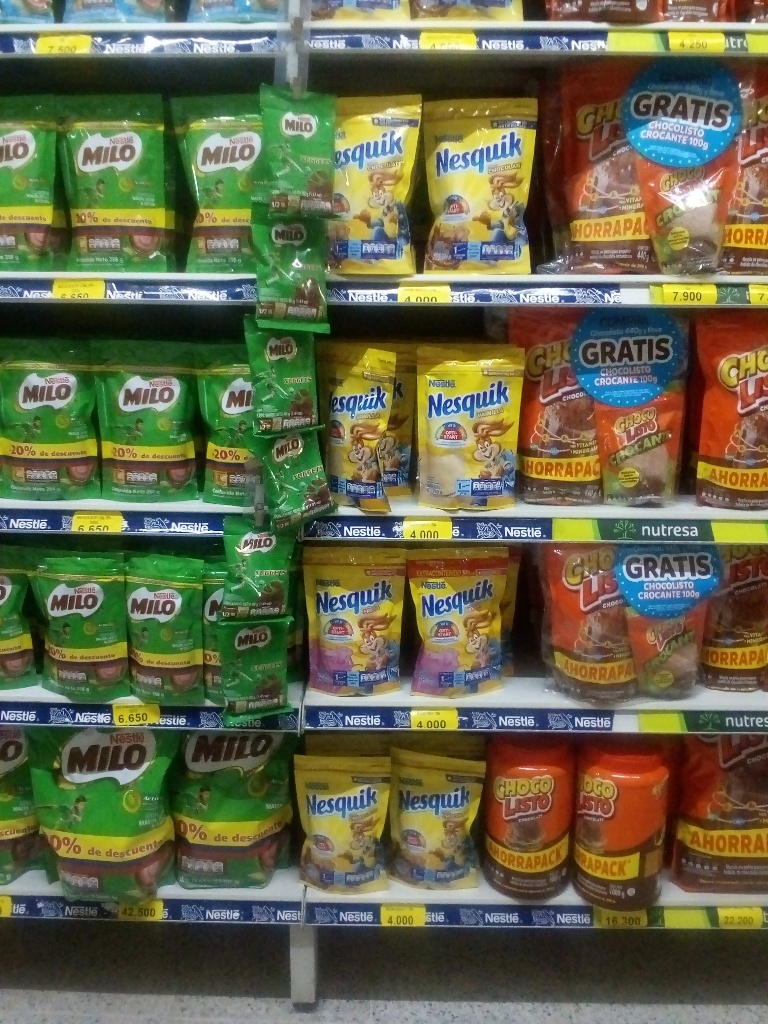COL0170102DYP10000: (634, 144, 737, 278)
COL0170103DYP1,500: (675, 733, 765, 893)
COL0170103DYP44000: (543, 63, 646, 269)
COL0170103TRR00100: (491, 737, 574, 900)
COL0170203DYP25000: (173, 90, 276, 280)
COL0170303DYP20000: (423, 98, 539, 280)
COL0170305DYP20000: (300, 548, 407, 700)
COL0170306DYP20000: (297, 753, 389, 893)
